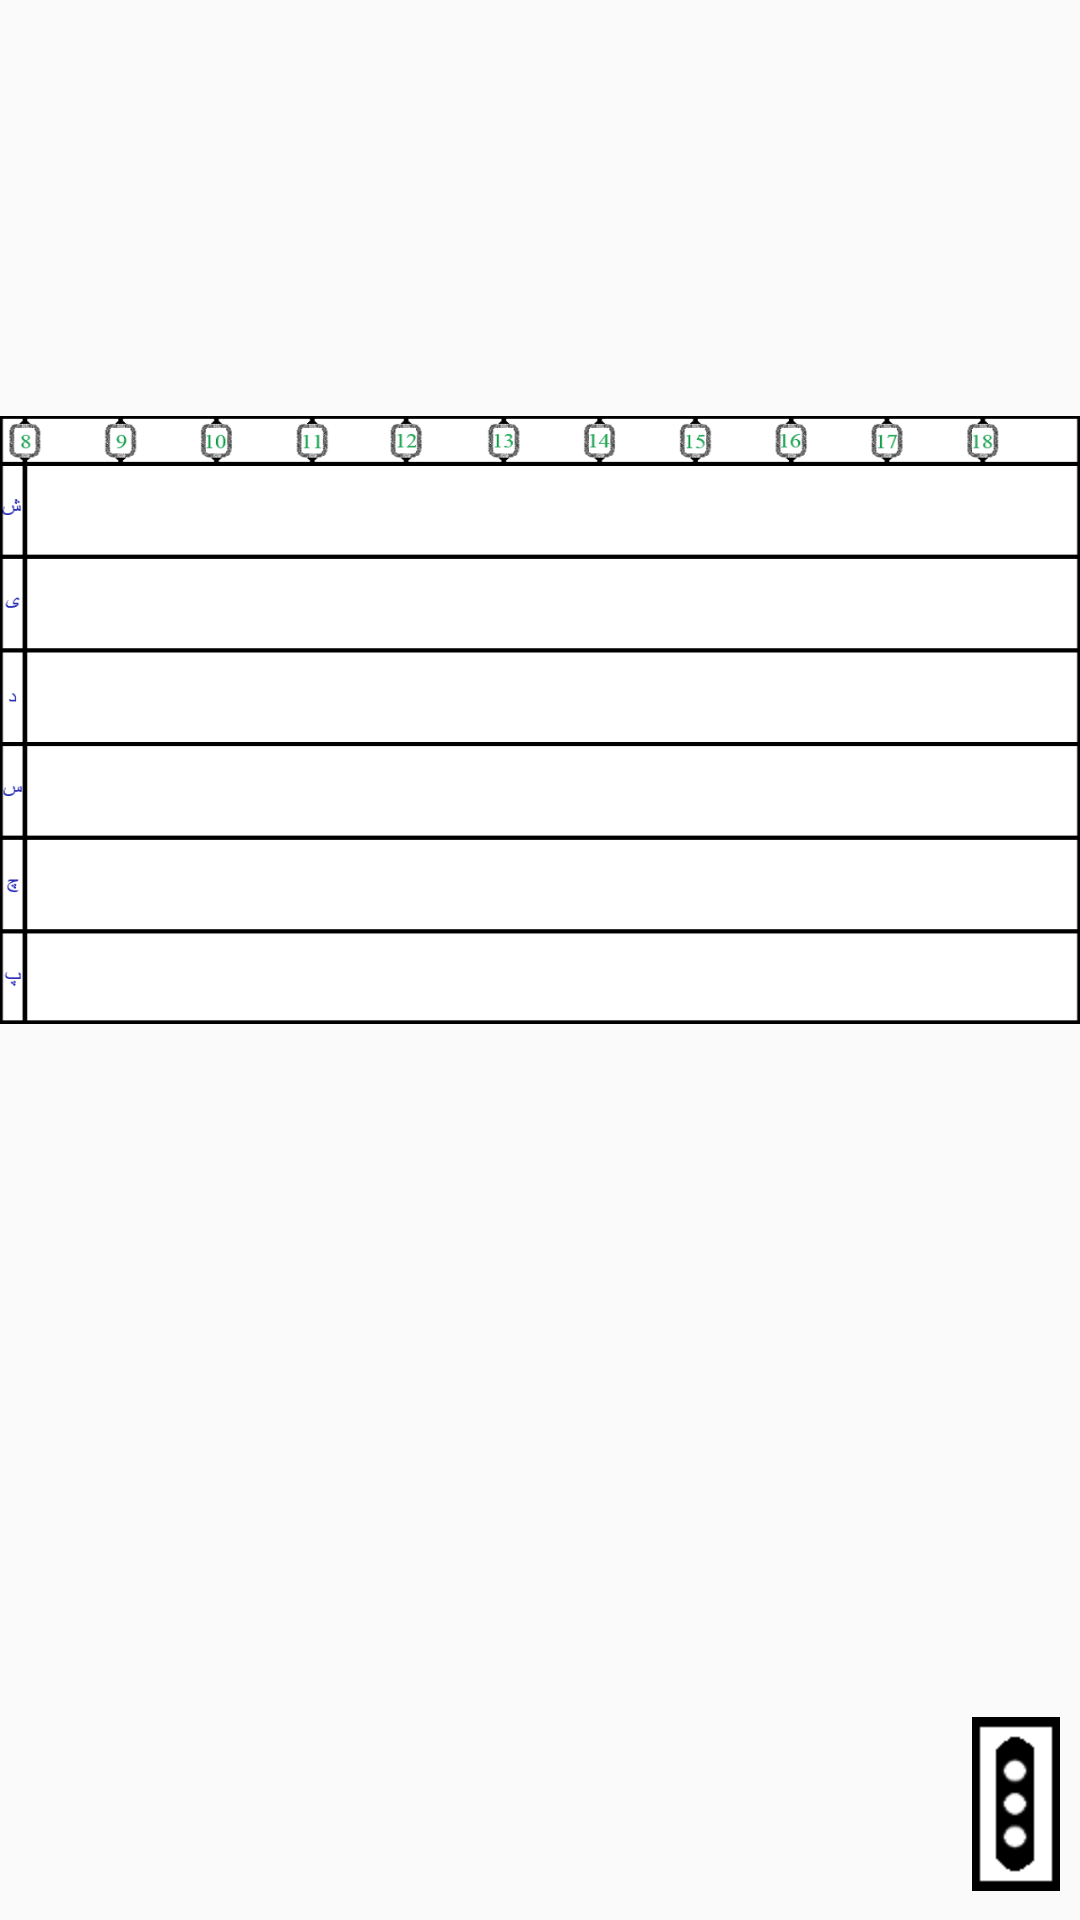

Icon bounding boxes for this 1080px x 1920px phone screenshot, format [left=x1, top=y1, right=x2, bottom=y2]:
actionsfinal: [left=972, top=1717, right=1060, bottom=1891]
